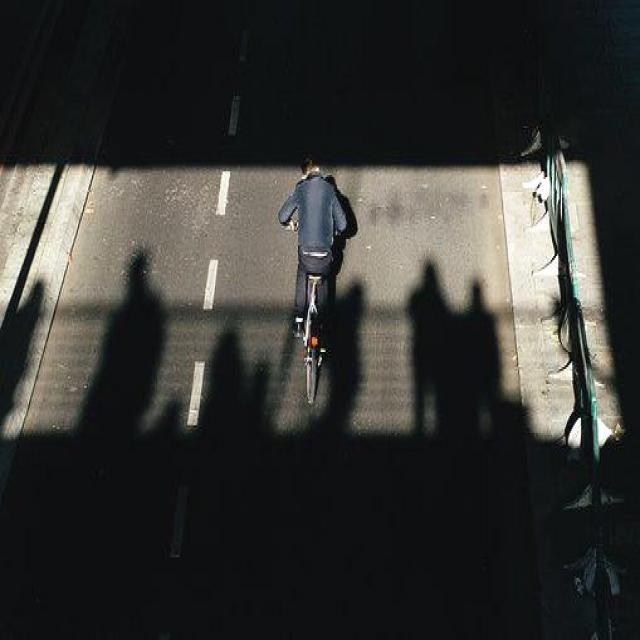bikerider: (278, 145, 370, 435)
